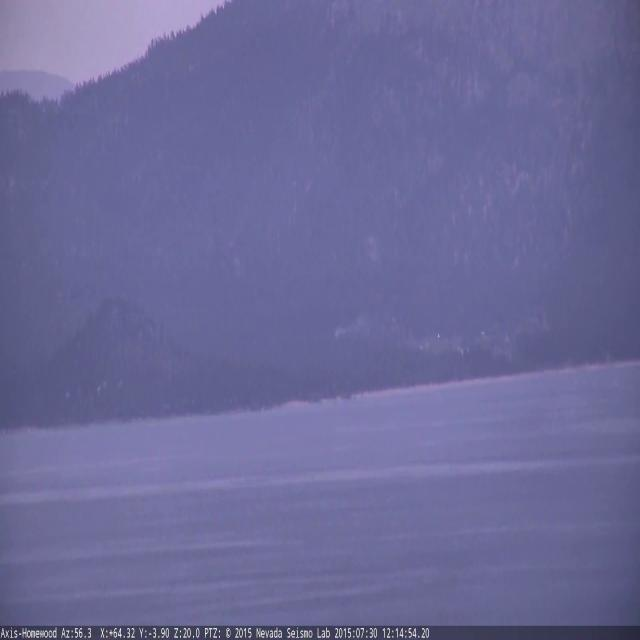smoke: (327, 306, 393, 341)
